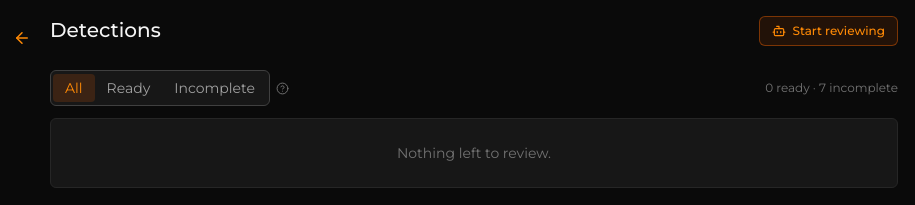
DetectionsPage queue filter › says which set came back empty, without blaming the page
Click the button "Ready": (128, 88) [95, 74, 162, 102]
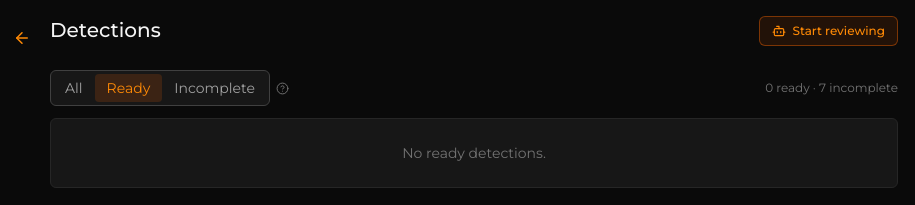
Expected: the button "Incomplete" is shown, [162, 74, 267, 102]
Result: the text "No ready detections." is shown at [50, 118, 898, 188]
Result: the text "Nothing left to review." is gone
